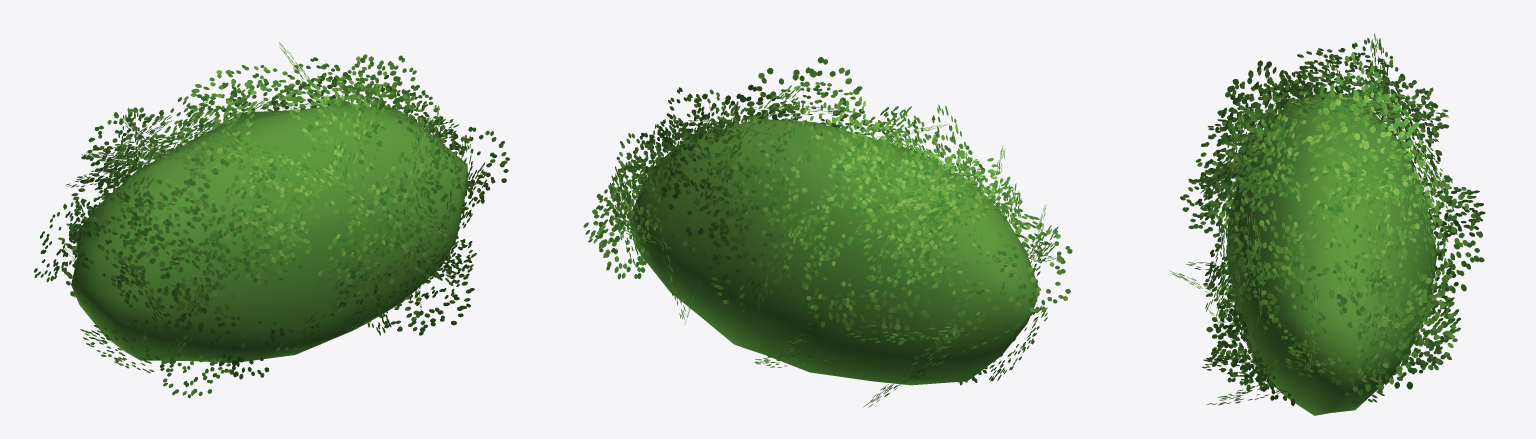
Rendered from fence_hedge.glb.
3 views of the same model, side by side, from view 1: azimuth 30°, elevation 25°; view 2: azimuth 150°, elevation 25°; view 3: azimuth 270°, elevation 25° (orthographic). The views are drawn at different scales.
Parts seen in each view (by area): view 1: fence_hedge_hedge, fence_hedge; view 2: fence_hedge_hedge, fence_hedge; view 3: fence_hedge, fence_hedge_hedge.
Part boxes in pixels (x1,y1,x2,y2): fence_hedge_hedge: (71, 104, 467, 362); fence_hedge: (34, 43, 509, 398); fence_hedge_hedge: (629, 119, 1038, 385); fence_hedge: (583, 57, 1072, 407); fence_hedge: (1169, 33, 1485, 406); fence_hedge_hedge: (1227, 92, 1437, 415).
Bounding box in the file's own units: 2.57 × 1.63 × 1.53.
Materials: 2 (1 with a texture image).
